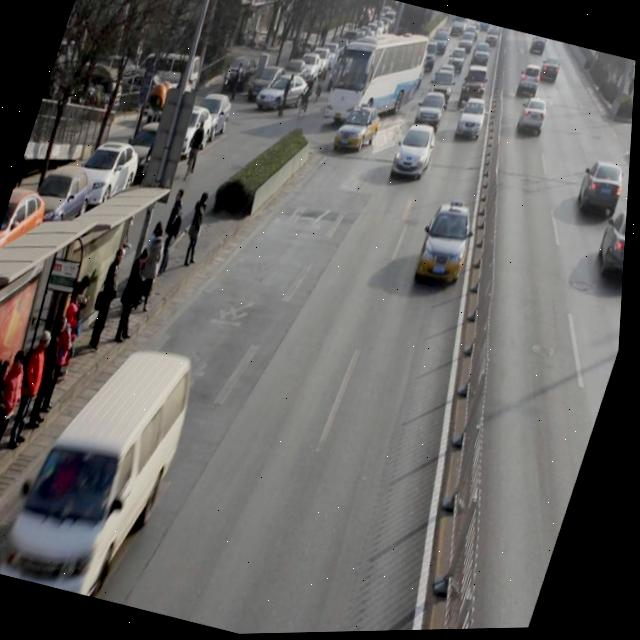car: (414, 201, 483, 292), (574, 160, 632, 225), (388, 121, 442, 188), (593, 207, 630, 289), (331, 104, 386, 159), (453, 96, 492, 146), (456, 64, 494, 114), (514, 96, 553, 142), (413, 91, 451, 137), (425, 67, 459, 111), (515, 64, 547, 104)
truck: (0, 324, 211, 608)
van: (321, 18, 432, 142)
